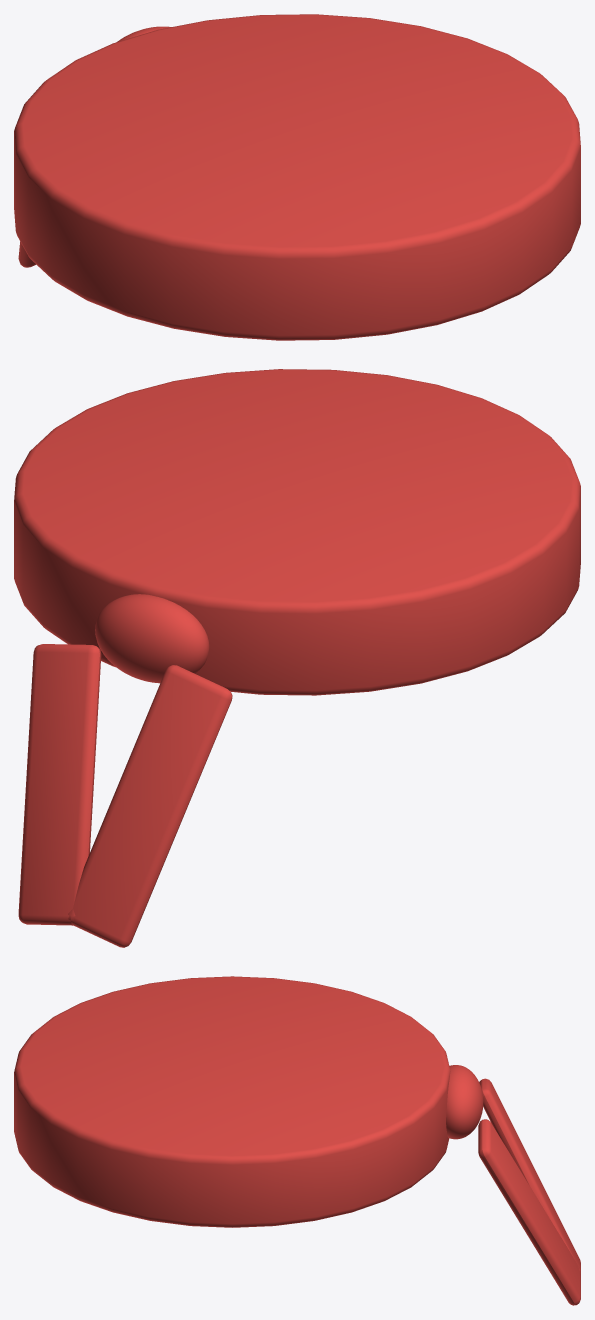
File: leesin_blindfold.glb
3 renders of one model, top to bottom at view 1: azimuth 30°, elevation 25°; view 2: azimuth 150°, elevation 25°; view 3: azimuth 270°, elevation 25°, orthographic. The views are drawn at different scales.
Visible parts, largest first — view 1: leesin_blindfold; view 2: leesin_blindfold; view 3: leesin_blindfold.
Part boxes in pixels (x1,y1,x2,y2): leesin_blindfold: (14, 14, 580, 340); leesin_blindfold: (14, 369, 580, 947); leesin_blindfold: (14, 976, 580, 1305).
Bounding box in the file's own units: 0.444 × 0.2472 × 0.5761.
